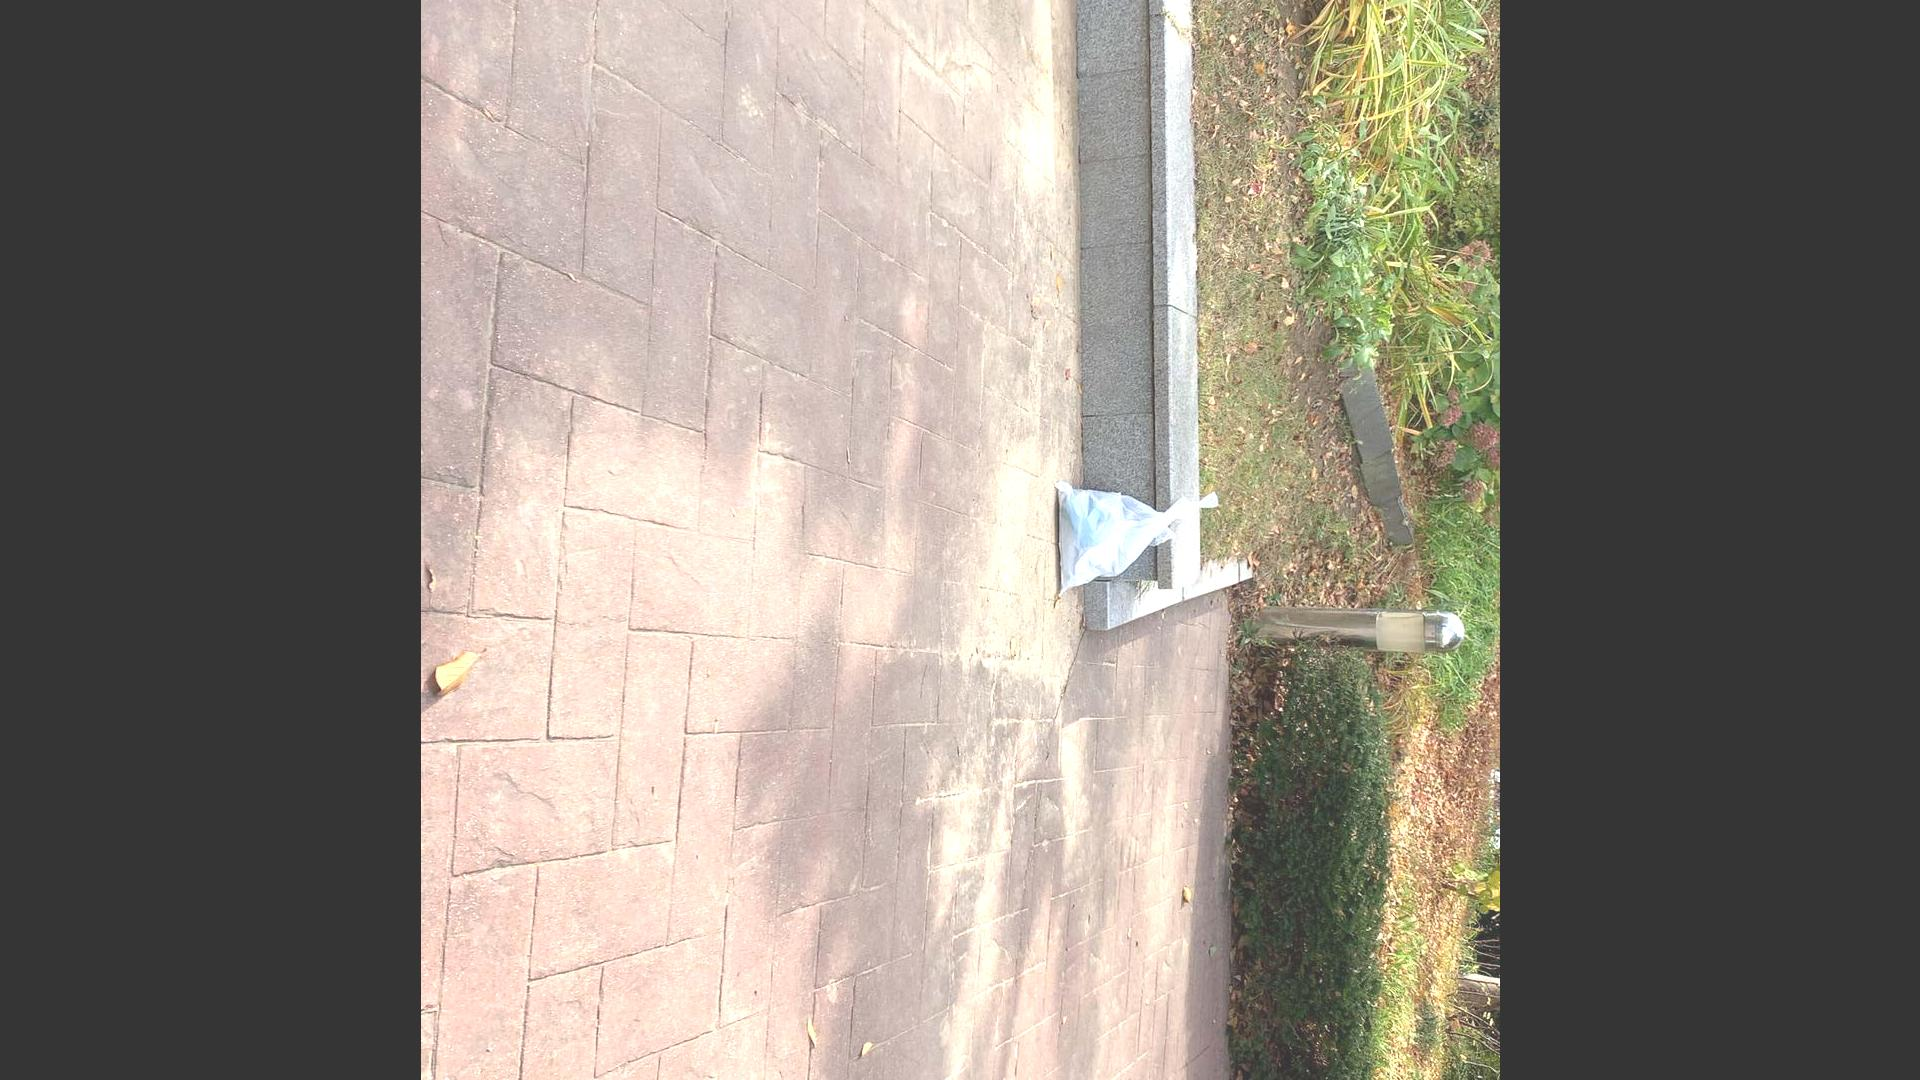white_bag: (1046, 473, 1229, 607)
